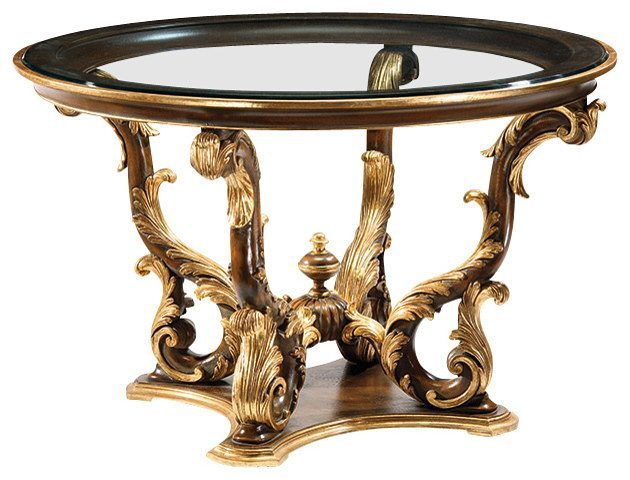Carving Table: (30, 26, 588, 447)
